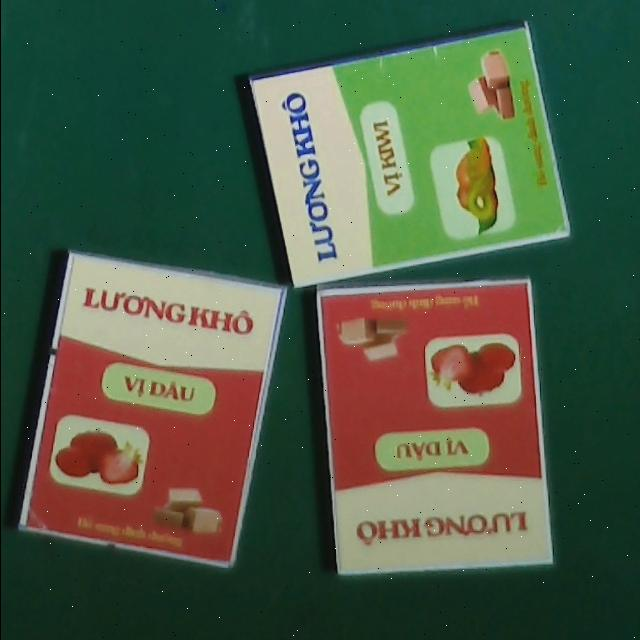dau: (14, 245, 286, 568), (316, 274, 551, 580)
kiwi: (250, 23, 568, 287)
